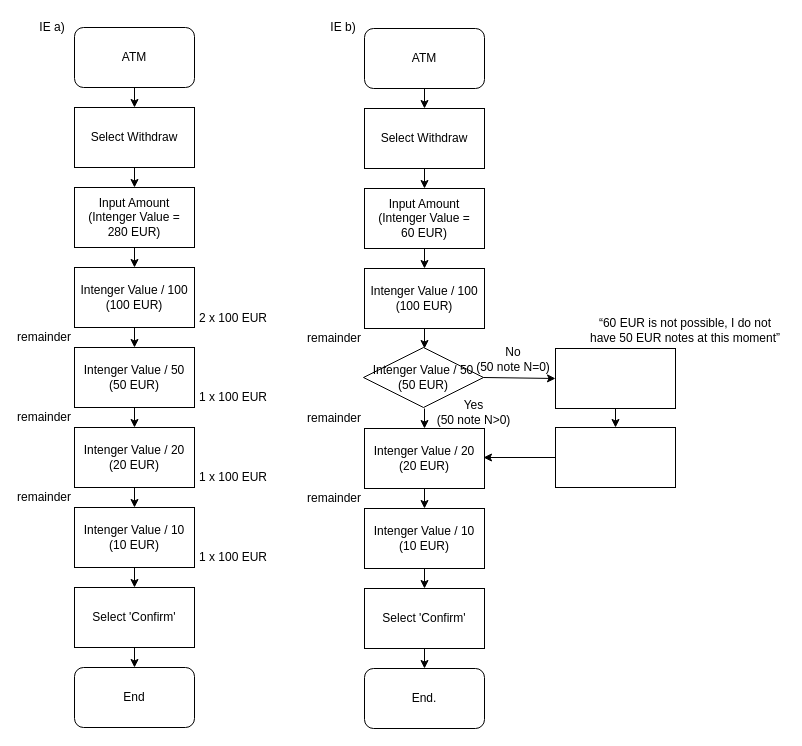
Image size: 802x746. Some labels were removed from this diagram. The centre of each missing label's shape, as x and y in pixels:
"Choose Note & Confirme" belongs at point 615,457.
"Display a message" belongs at point 615,378.
